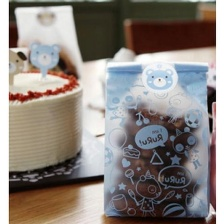snack: (97, 53, 214, 222)
